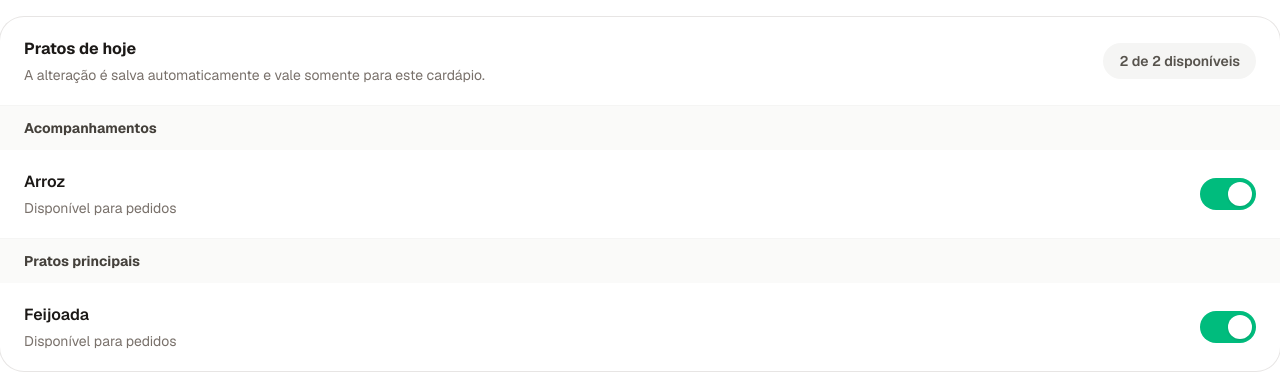
Test case: AdminMenuAvailability › agrupa por categoria e mantém a ordem após alterar a disponibilidade
Check: the headings read "Acompanhamentos", "Pratos principais", in this order, box [0,106,1279,150]; [0,239,1279,283]
Click the switch named "Marcar Feijoada como esgotado". click: point(1228, 327)
box: [1200,311,1256,343]
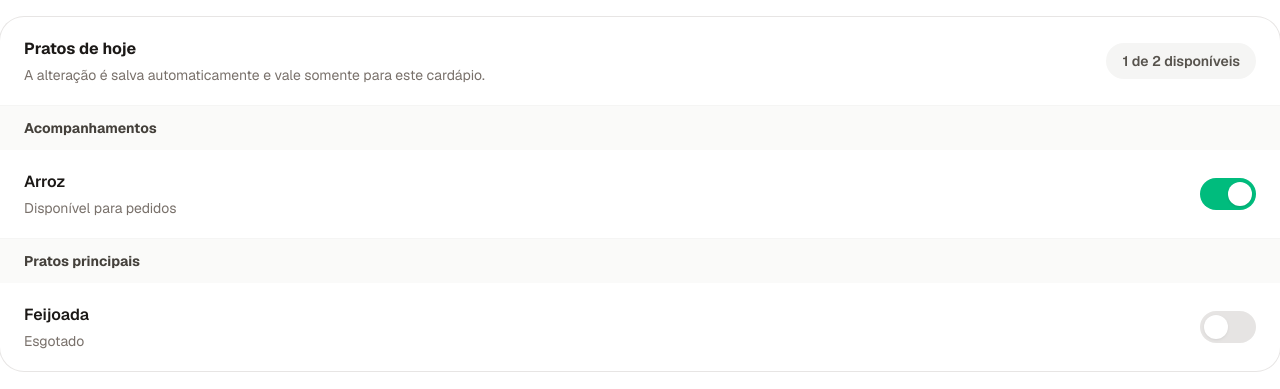
Check: the headings read "Acompanhamentos", "Pratos principais", in this order, box [0,106,1279,150]; [0,239,1279,283]
Check: the switch named "Marcar Feijoada como disponível" is not checked, box [1200,311,1256,343]
